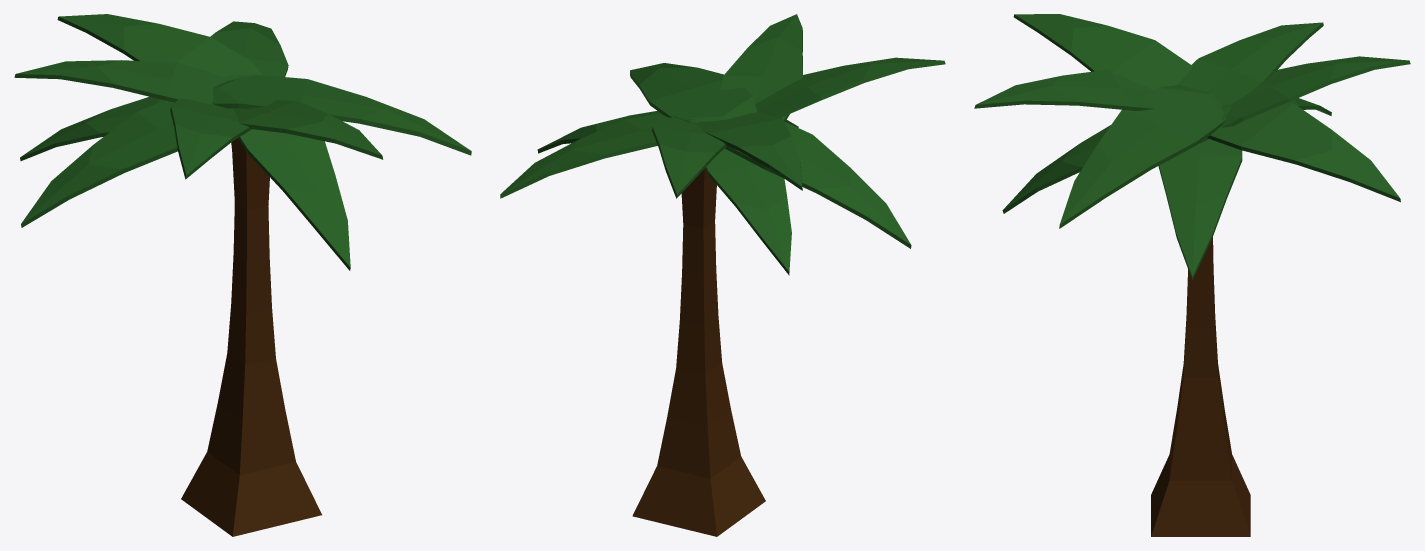
The model's file is Tree.fbx.
3 renders of one model, left to right at view 1: azimuth 30°, elevation 25°; view 2: azimuth 150°, elevation 25°; view 3: azimuth 270°, elevation 25°, orthographic. The views are drawn at different scales.
Visible parts, largest first — view 1: Cube.002, Leaf.006, Leaf.005, Leaf.004, Leaf.002, Leaf.009, Leaf.003, Leaf.010, Leaf, Leaf.001; view 2: Cube.002, Leaf.001, Leaf.004, Leaf.005, Leaf.010, Leaf, Leaf.009, Leaf.003, Leaf.002, Leaf.007; view 3: Cube.002, Leaf.004, Leaf, Leaf.007, Leaf.003, Leaf.009, Leaf.010, Leaf.002, Leaf.006.
Part boxes in pixels (x1,y1,x2,y2): Cube.002: (181,138,321,536); Leaf.006: (224,75,350,270); Leaf.005: (21,100,177,227); Leaf.004: (212,74,471,155); Leaf.002: (57,14,261,77); Leaf.009: (14,60,226,105); Leaf.003: (170,98,251,179); Leaf.010: (233,100,383,159); Leaf: (210,21,288,76); Leaf.001: (20,96,164,160); Cube.002: (632,168,765,536); Leaf.001: (705,148,791,275); Leaf.004: (630,63,756,121); Leaf.005: (725,122,911,248); Leaf.010: (720,14,802,121); Leaf: (500,113,666,198); Leaf.009: (696,111,802,190); Leaf.003: (755,57,945,117); Leaf.002: (652,117,726,198); Leaf.007: (537,111,660,153); Cube.002: (1151,237,1250,536); Leaf.004: (1059,84,1226,228); Leaf: (1207,102,1400,202); Leaf.007: (1158,139,1242,280); Leaf.003: (1013,14,1192,89); Leaf.009: (1177,22,1323,105); Leaf.010: (974,69,1154,110); Leaf.002: (1199,56,1410,143); Leaf.006: (1002,104,1231,213).
Bounding box in the file's own units: 456 × 488 × 445.
